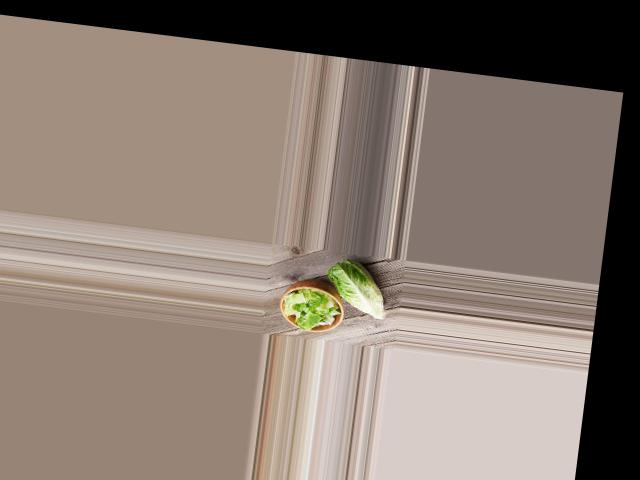lettuce: (323, 256, 390, 320)
